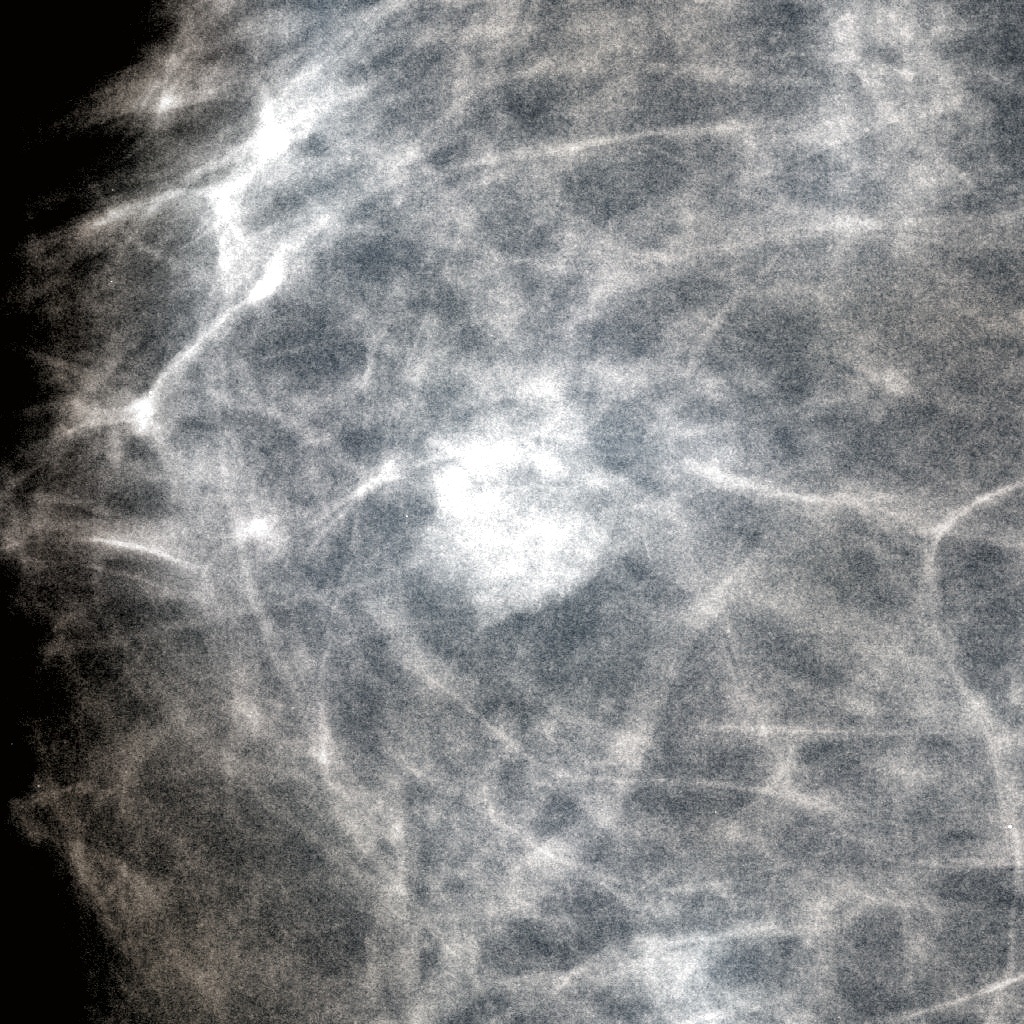tumor: (412, 397, 612, 627)
